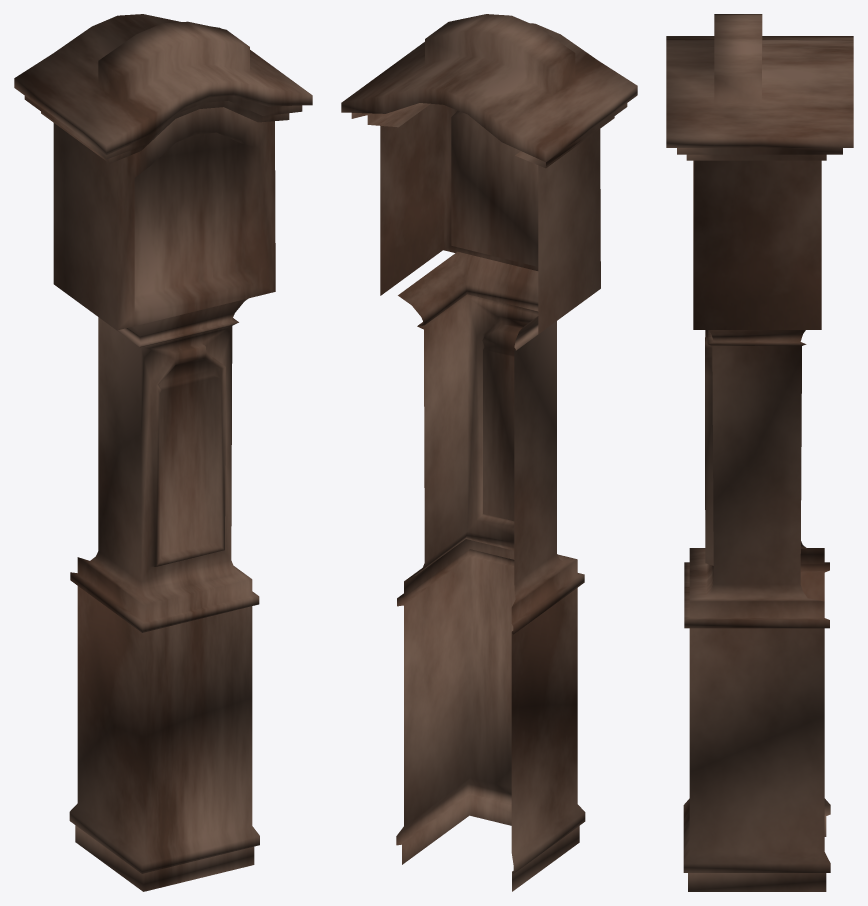
The model's file is reloj de mierda.fbx.
3 views of the same model, side by side, from view 1: azimuth 30°, elevation 25°; view 2: azimuth 150°, elevation 25°; view 3: azimuth 270°, elevation 25° (orthographic). The views are drawn at different scales.
Visible parts, largest first — view 1: Cube.008; view 2: Cube.008; view 3: Cube.008.
Boxes of the visible parts, bbox=[...] form: Cube.008: bbox=[14, 14, 312, 891]; Cube.008: bbox=[341, 14, 637, 891]; Cube.008: bbox=[666, 14, 853, 891].
Bounding box in the file's own units: 47.17 × 181 × 36.53.
